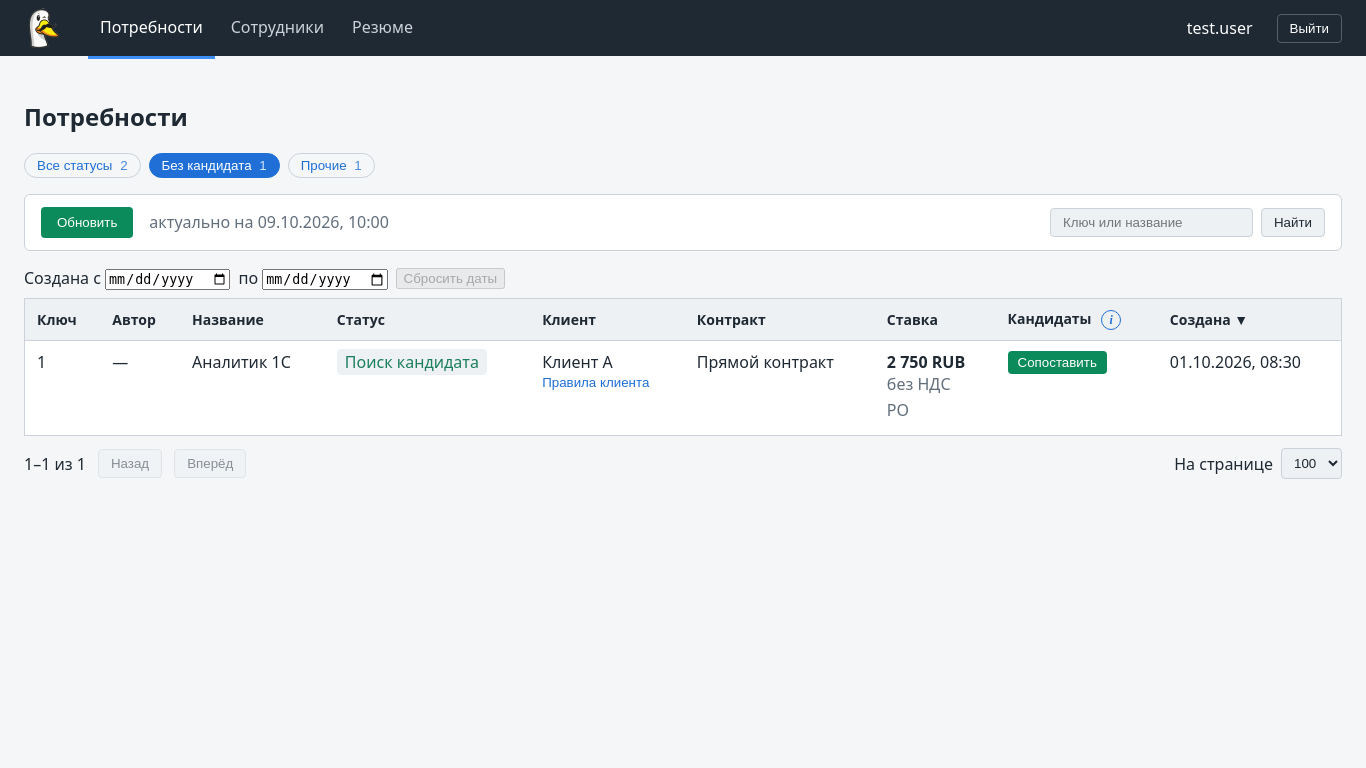
Test: Потребности › значок «i» у колонки «Кандидаты» открывает описание логики подбора
Check: the cell "1" is shown, box [24,341,100,436]
Click the button named "Как подбираются кандидаты".
click(1111, 320)  # box [1101,310,1121,330]
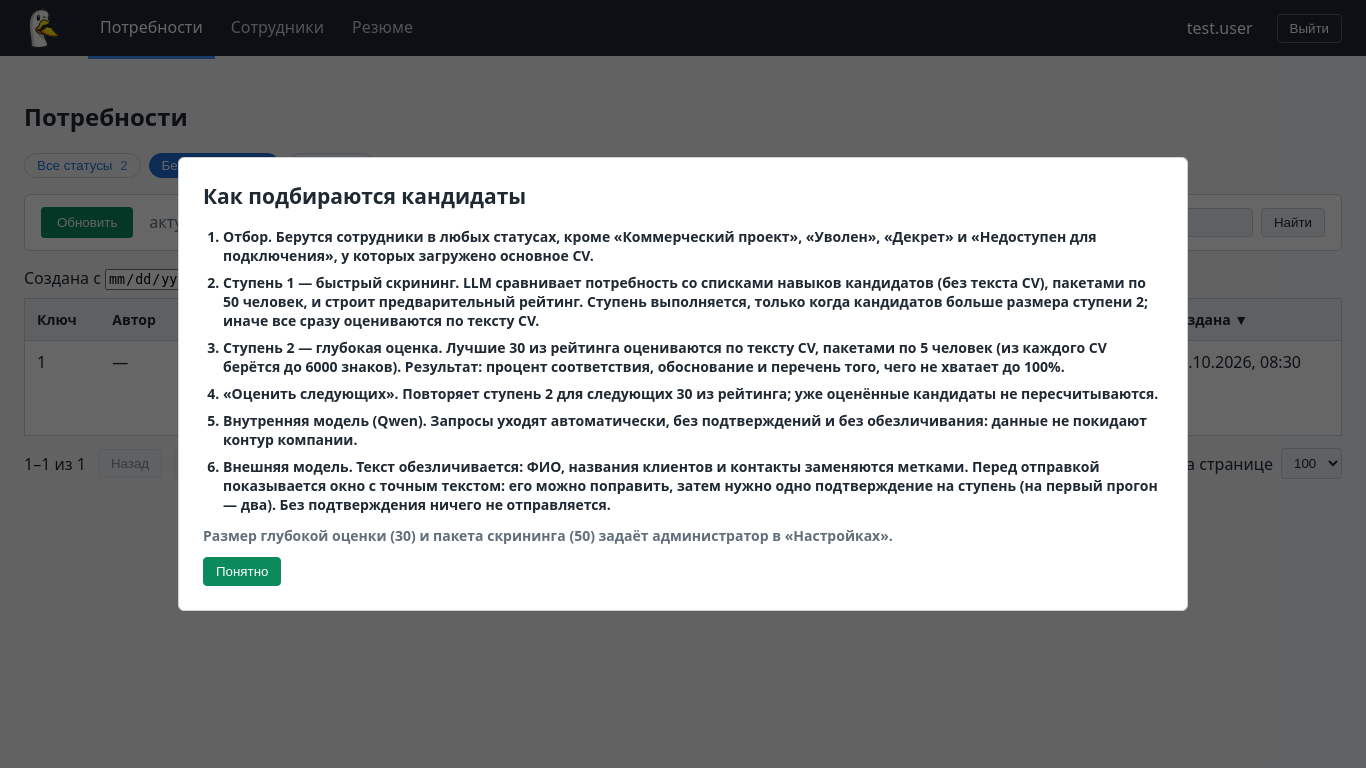
Check: the text "Ступень 1 — быстрый скрининг." is shown, box [223,273,459,292]
Check: the text "Внешняя модель." is shown, box [223,457,353,476]
Click the button "Понятно".
click(242, 572)  # box [203,557,282,586]
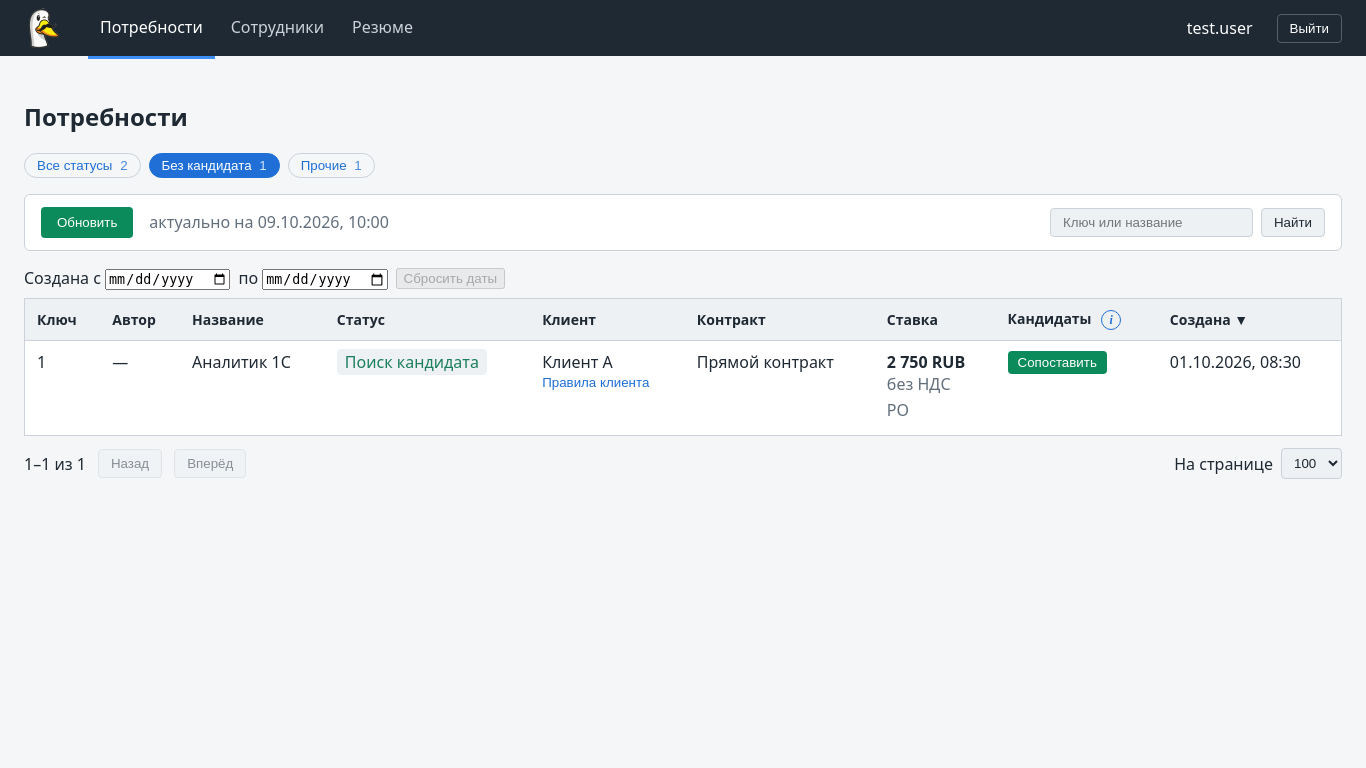
Check: the heading "Как подбираются кандидаты" is gone
